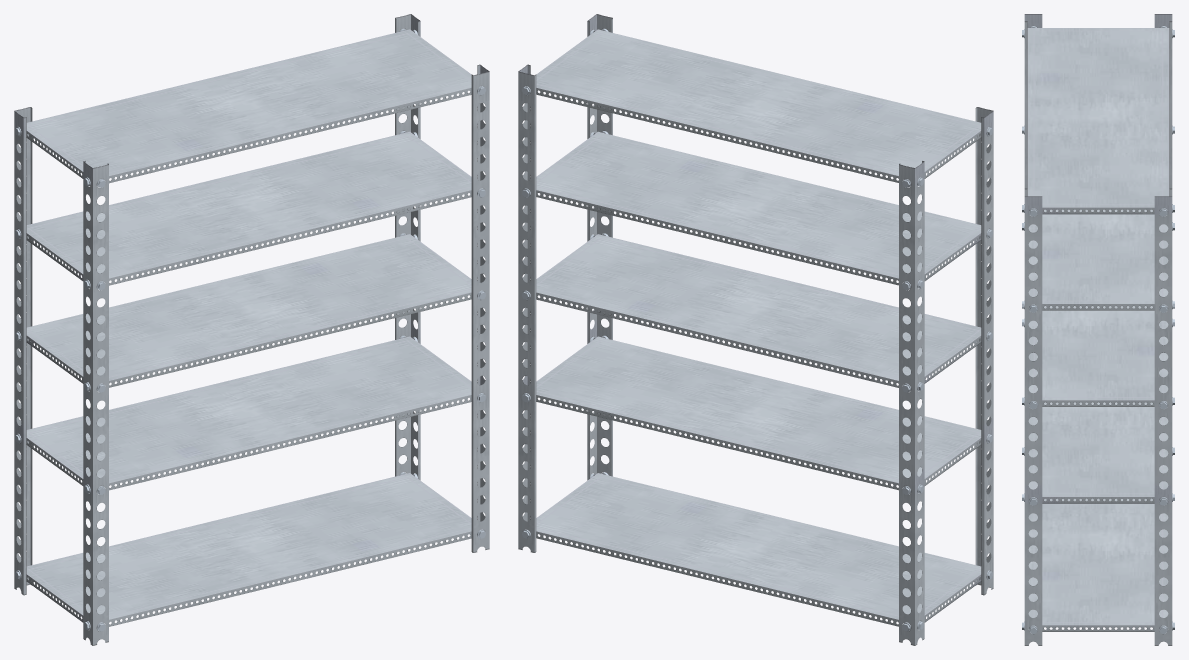
File: stainless_steel_shelving_restaurant_equipment.glb
3 views of the same model, side by side, from view 1: azimuth 30°, elevation 25°; view 2: azimuth 150°, elevation 25°; view 3: azimuth 270°, elevation 25° (orthographic). The views are drawn at different scales.
Visible parts, largest first — view 1: Material2 (×3); view 2: Material2 (×3); view 3: Material2 (×3).
Part boxes in pixels (bbox=[...]): Material2 (×3): bbox=[14, 14, 489, 645]; Material2 (×3): bbox=[518, 14, 993, 645]; Material2 (×3): bbox=[1022, 14, 1174, 645].
Size of the model in its own units: 73.88 by 84 by 25.88.
Materials: 3 (2 with a texture image).
